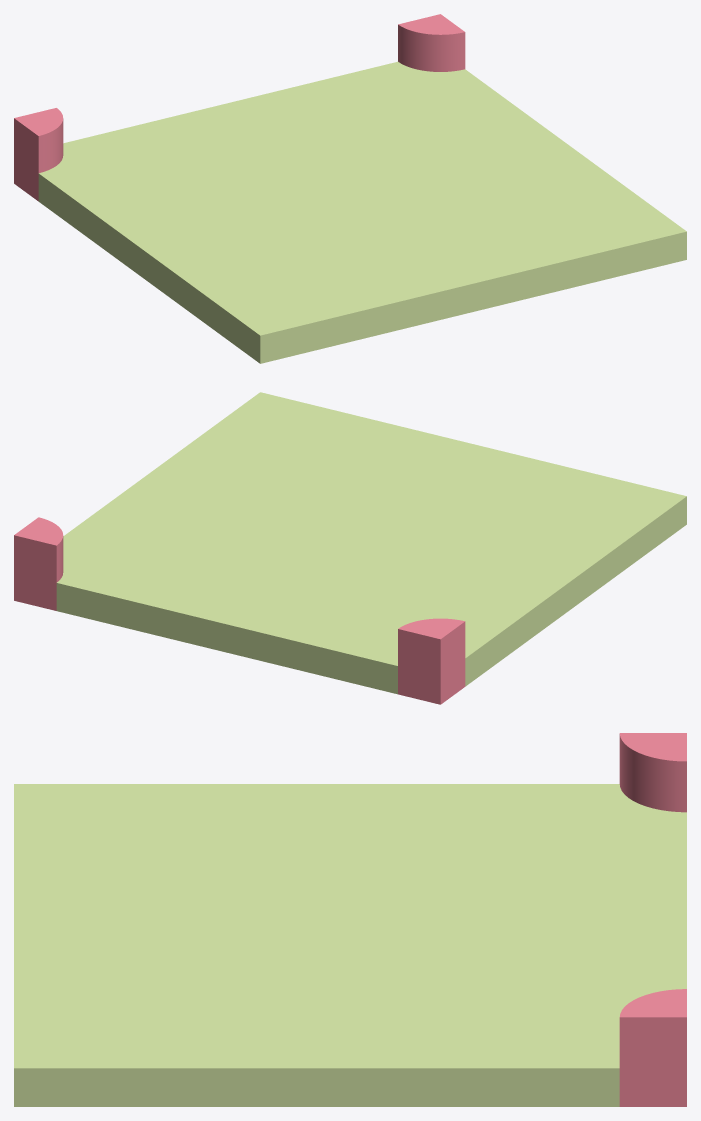
Rendered from wallsToOpen.fbx.
The picture shows the model from 3 angles, top to bottom: view 1: azimuth 30°, elevation 25°; view 2: azimuth 150°, elevation 25°; view 3: azimuth 270°, elevation 25°; orthographic projection. The views are drawn at different scales.
Visible parts, largest first — view 1: wallsToOpen; view 2: wallsToOpen; view 3: wallsToOpen.
Boxes of the visible parts, x1,y1,x2,y2 form: wallsToOpen: (14, 14, 686, 363); wallsToOpen: (14, 392, 686, 704); wallsToOpen: (14, 733, 686, 1106).
Size of the model in its own units: 99.99 by 14.67 by 99.99.
